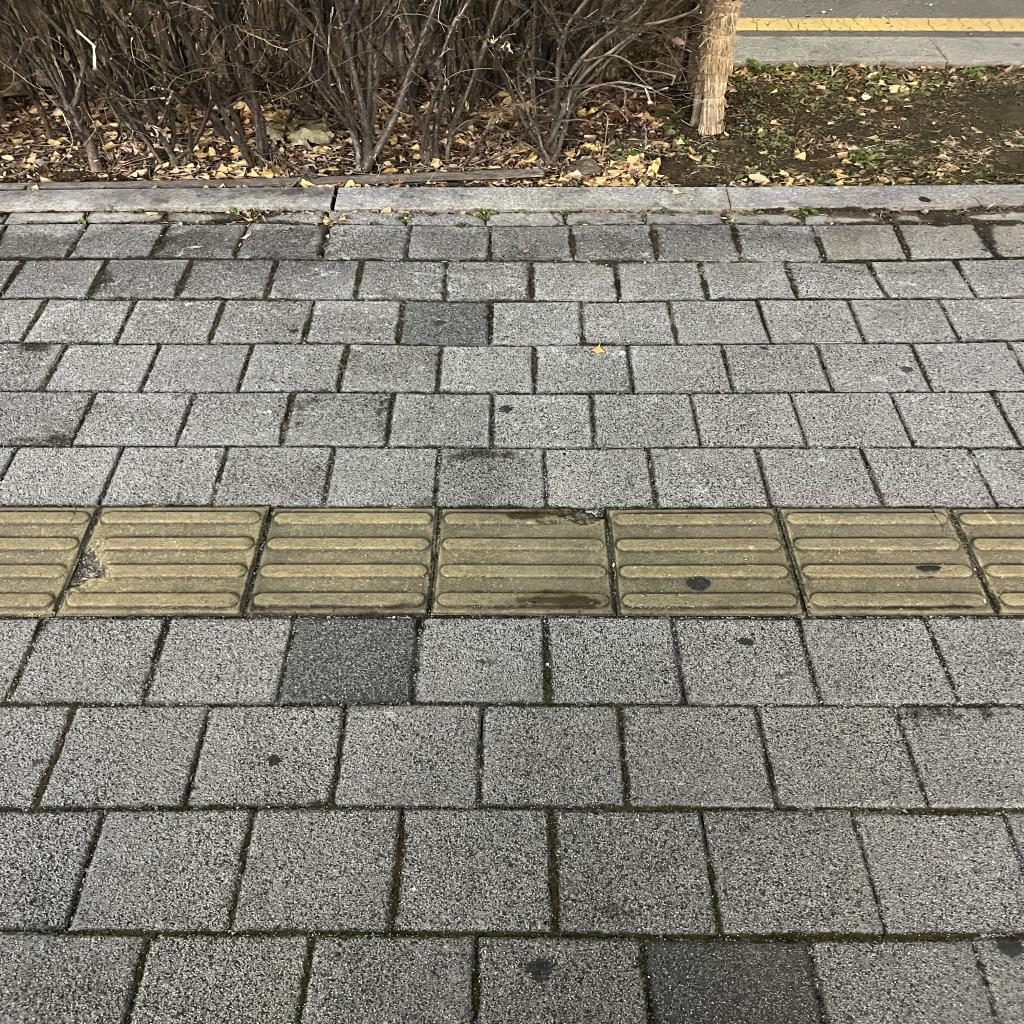Straight block broken: (57, 507, 268, 614), (432, 510, 614, 614)
Straight block normal: (781, 508, 994, 616), (611, 509, 803, 614), (249, 509, 434, 614)
